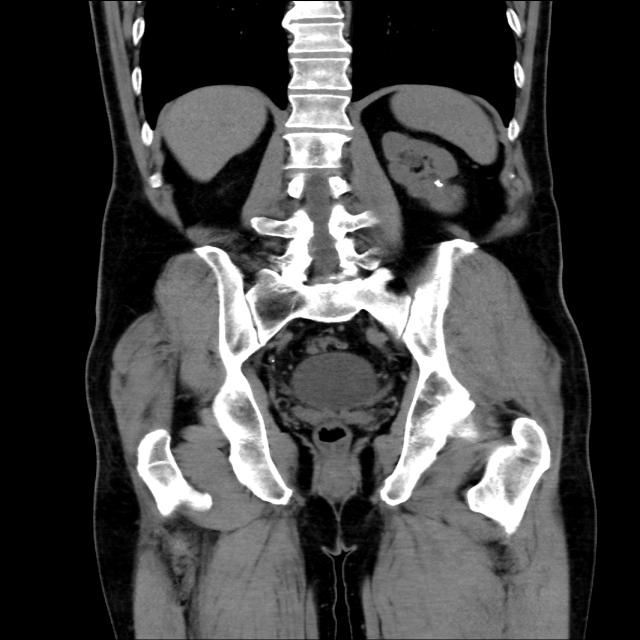kidneystone: (434, 178, 441, 184)
